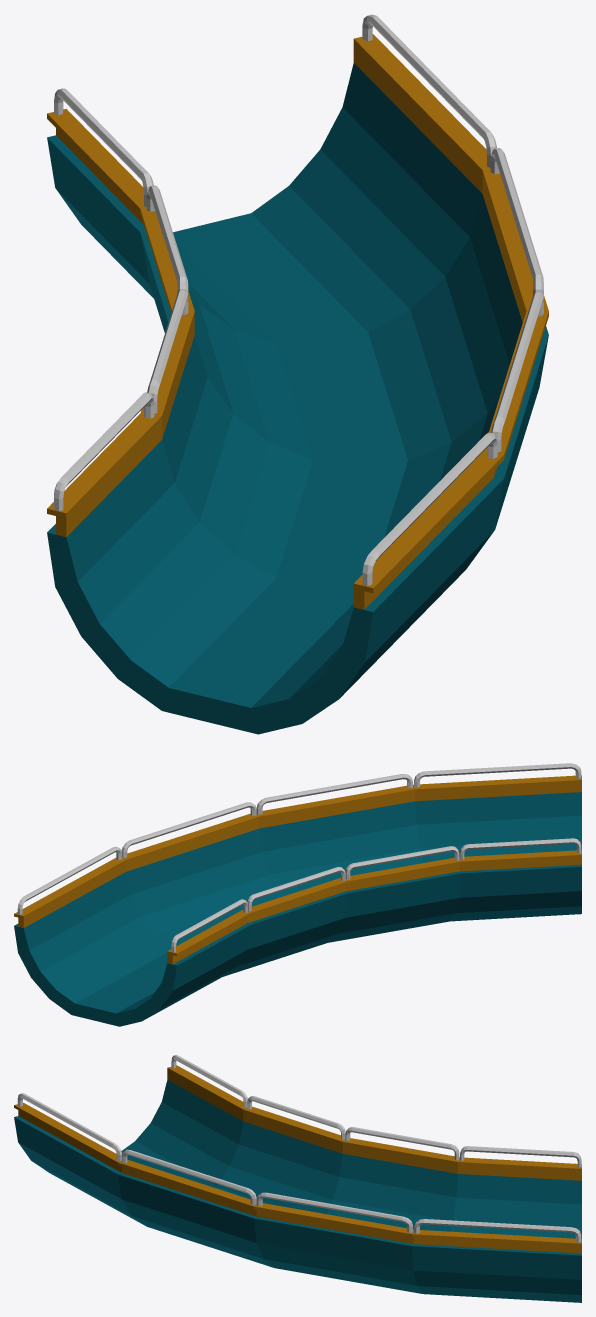
File: halfpipe-curveRight-60_m.FBX
3 renders of one model, top to bottom at view 1: azimuth 30°, elevation 25°; view 2: azimuth 150°, elevation 25°; view 3: azimuth 270°, elevation 25°, orthographic. The views are drawn at different scales.
Parts seen in each view (by area): view 1: halfpipe-curveRight-60_m, wall_l, wall_r; view 2: halfpipe-curveRight-60_m, wall_l, wall_r; view 3: halfpipe-curveRight-60_m, wall_l, wall_r.
Boxes of the visible parts, x1,y1,x2,y2 form: halfpipe-curveRight-60_m: (47,63,548,734); wall_l: (353,14,548,609); wall_r: (47,88,194,537); halfpipe-curveRight-60_m: (14,792,581,1026); wall_l: (14,763,581,927); wall_r: (167,838,581,964); halfpipe-curveRight-60_m: (14,1080,581,1302); wall_l: (14,1093,581,1253); wall_r: (167,1055,581,1180).
Size of what is drawn, in the model's own units: 287 by 386 by 75.73.
